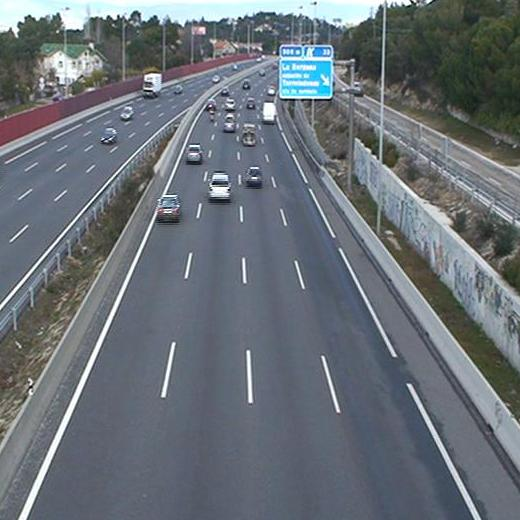car: (206, 172, 231, 198), (157, 195, 183, 220), (244, 166, 264, 185), (186, 145, 202, 162), (224, 113, 235, 129), (224, 99, 236, 109), (247, 97, 256, 109)
motorcycle: (208, 104, 216, 122)
small-truck: (242, 124, 258, 146)
van: (262, 102, 278, 121)
